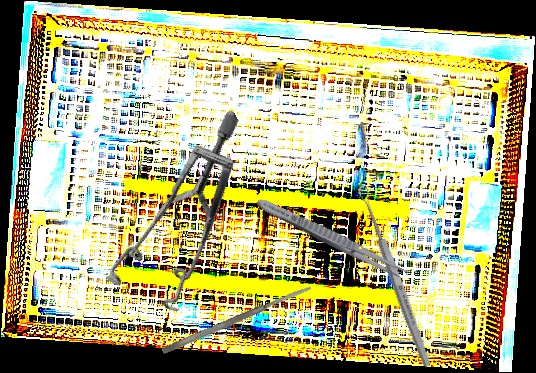Dressing Forceps: (253, 194, 412, 283)
Spatula Surgical: (160, 283, 314, 356)
Speculum: (65, 109, 306, 334)
Surgical Spoon: (356, 183, 434, 370)
